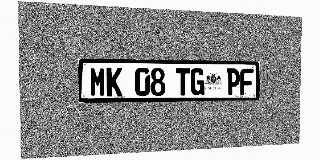0: (135, 68, 150, 96)
8: (150, 68, 165, 96)
F: (240, 68, 253, 95)
G: (190, 68, 205, 95)
K: (106, 67, 122, 96)
M: (90, 67, 106, 97)
P: (227, 68, 240, 95)
T: (176, 68, 190, 96)
